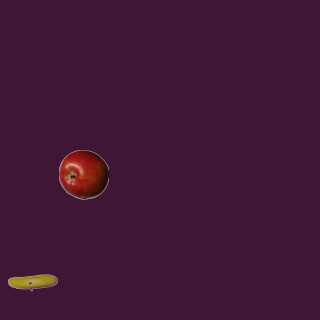Apple Braeburn: (58, 149, 108, 199)
Banana: (7, 257, 57, 307)
